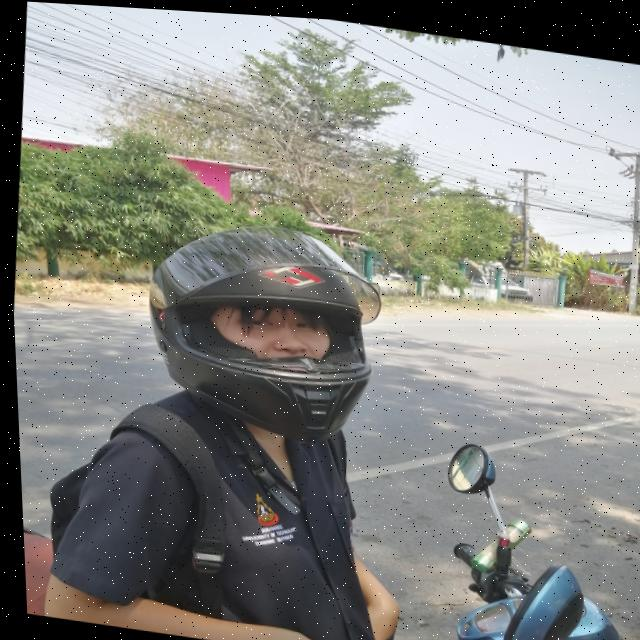helmet: (125, 199, 395, 455)
